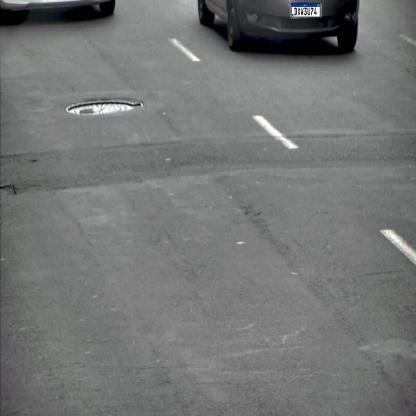PlacaM: (292, 3, 321, 17)
